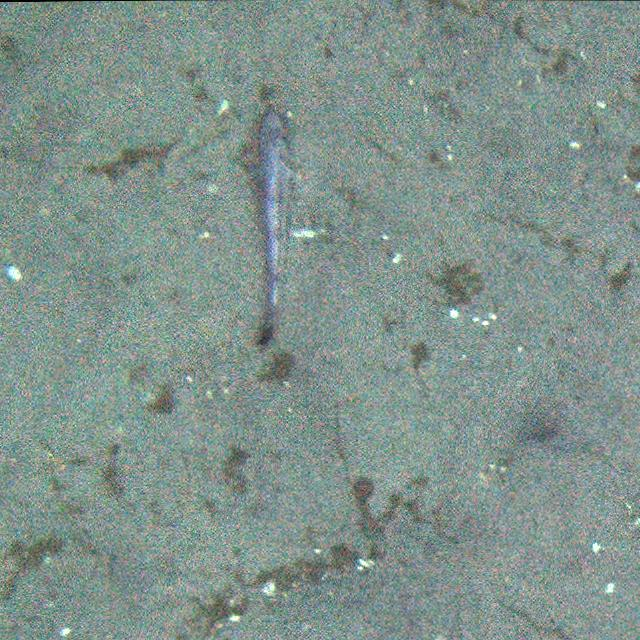roundfish: (245, 106, 303, 350)
